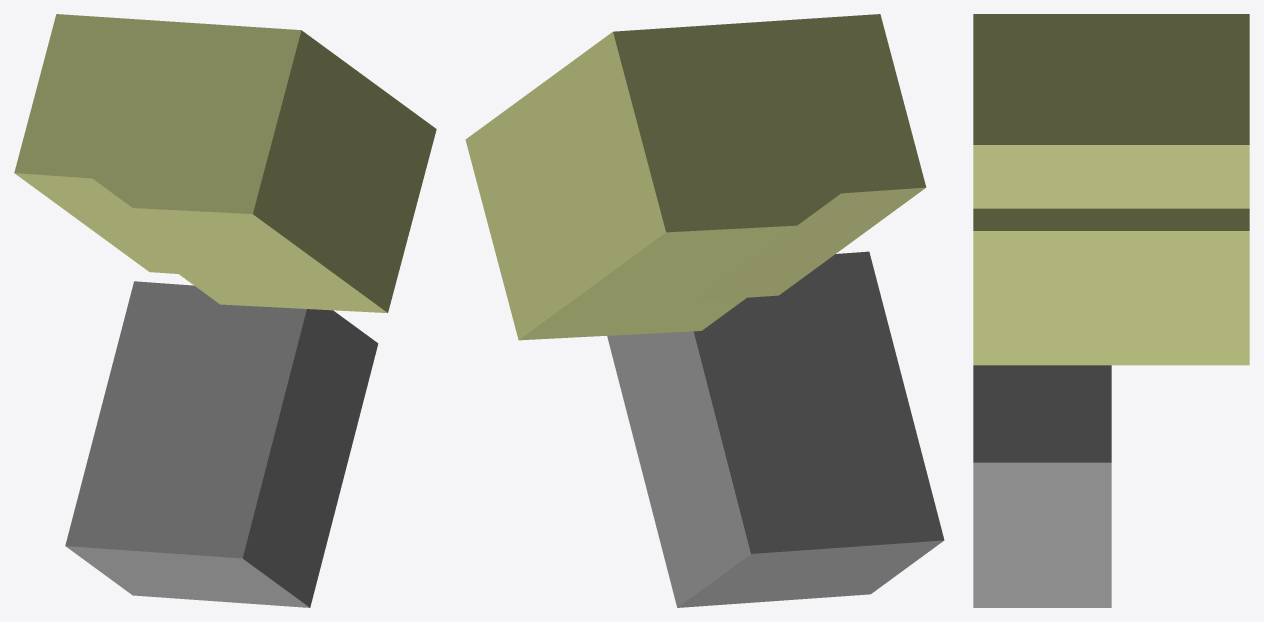
The picture shows the model from 3 angles, left to right: view 1: azimuth 30°, elevation 25°; view 2: azimuth 150°, elevation 25°; view 3: azimuth 270°, elevation 25°; orthographic projection. The views are drawn at different scales.
Parts seen in each view (by area): view 1: 0_1_2_0_1_3_0_2_3_2_3; view 2: 0_1_2_0_1_3_0_2_3_2_3; view 3: 0_1_2_0_1_3_0_2_3_2_3.
Boxes of the visible parts, x1,y1,x2,y2 form: 0_1_2_0_1_3_0_2_3_2_3: (14, 14, 436, 607); 0_1_2_0_1_3_0_2_3_2_3: (465, 14, 944, 607); 0_1_2_0_1_3_0_2_3_2_3: (973, 14, 1249, 607).
Bounding box in the file's own units: 7.79 × 12.83 × 6.
